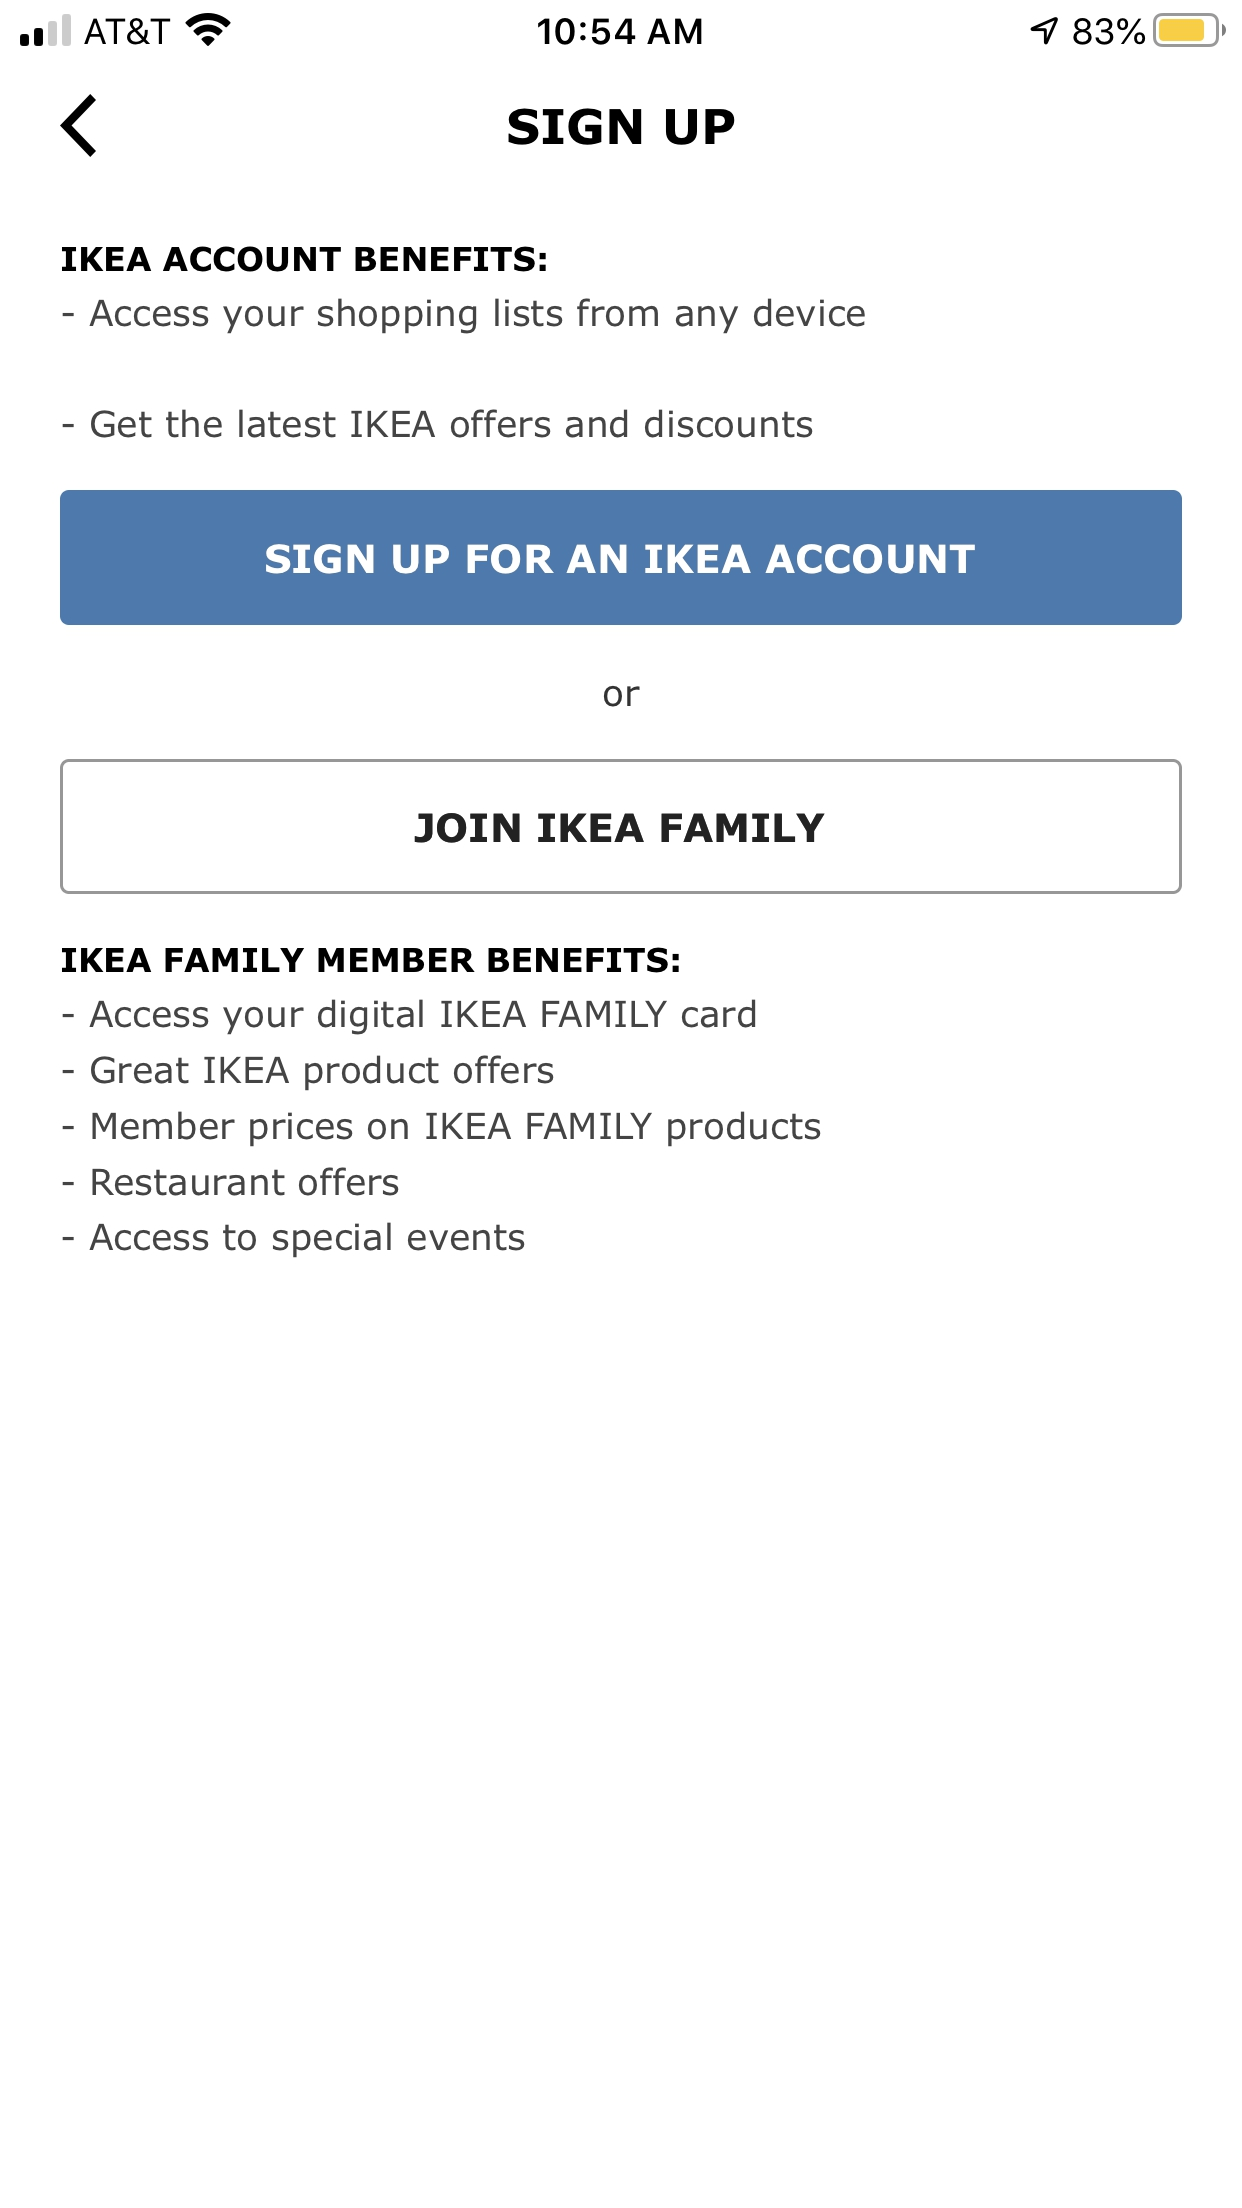Icon: (61, 93, 99, 158)
Text: (61, 297, 866, 335), (62, 1112, 820, 1148), (62, 999, 757, 1036), (62, 409, 814, 438), (62, 1055, 554, 1092), (62, 946, 679, 974), (62, 1222, 525, 1259), (62, 246, 547, 273), (64, 1168, 400, 1197), (507, 109, 735, 147), (604, 685, 641, 708)
TextButton: (61, 758, 1183, 895), (61, 490, 1183, 626)
UpperTaskBar: (2, 2, 1242, 49)
